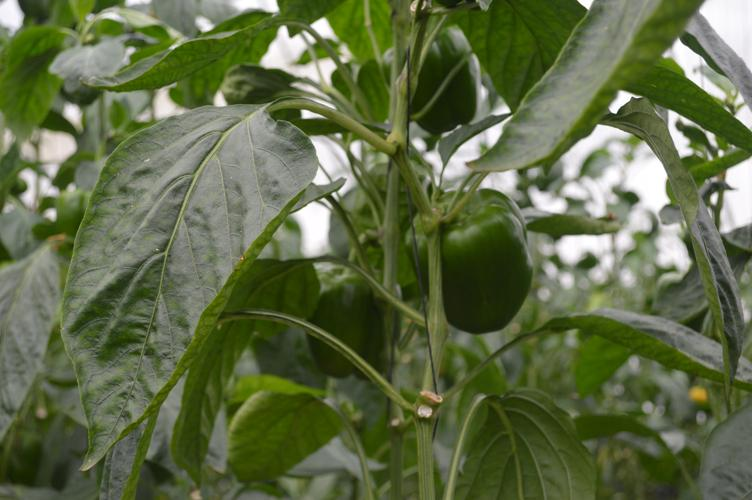BellPepper: (407, 189, 545, 340), (295, 258, 392, 383), (378, 32, 485, 141)
